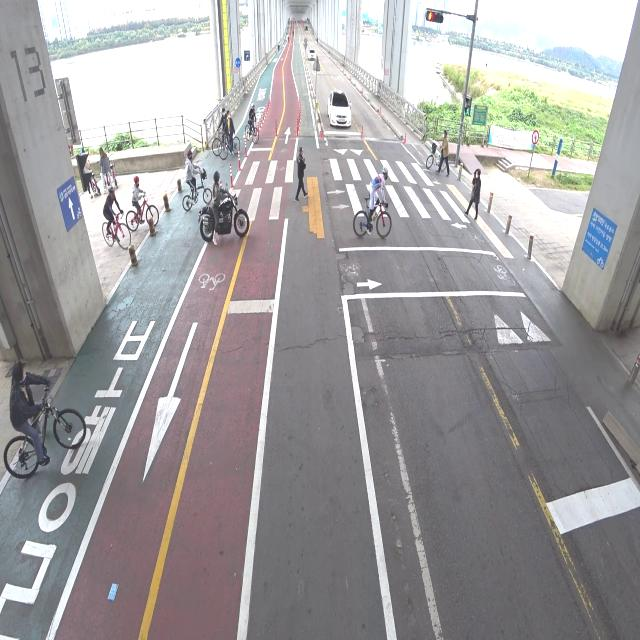Car: (321, 80, 356, 134), (307, 46, 321, 67)
Motorcycle: (197, 170, 250, 245)
